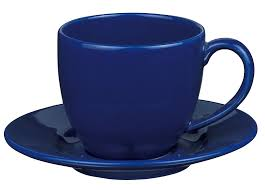cup: (56, 10, 256, 159)
